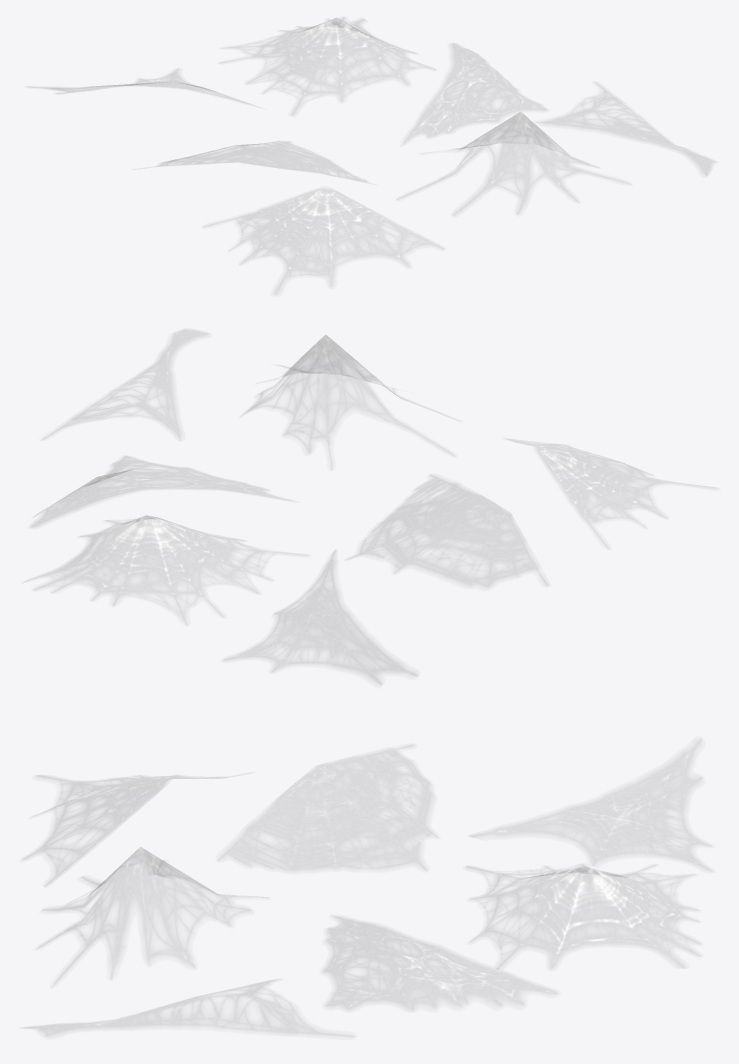
File: cobwebs.glb
The picture shows the model from 3 angles, top to bottom: view 1: azimuth 30°, elevation 25°; view 2: azimuth 150°, elevation 25°; view 3: azimuth 270°, elevation 25°; orthographic projection. The views are drawn at different scales.
Parts seen in each view (by area): view 1: cobweb.001_cobwebs_0; view 2: cobweb.001_cobwebs_0; view 3: cobweb.001_cobwebs_0.
Boxes of the visible parts, <box> form: cobweb.001_cobwebs_0: <box>29,17,715,294</box>; cobweb.001_cobwebs_0: <box>23,329,716,684</box>; cobweb.001_cobwebs_0: <box>23,739,712,1036</box>.
Bounding box in the file's own units: 2.2 × 0.4142 × 2.16.
Materials: 1 (1 with a texture image).
